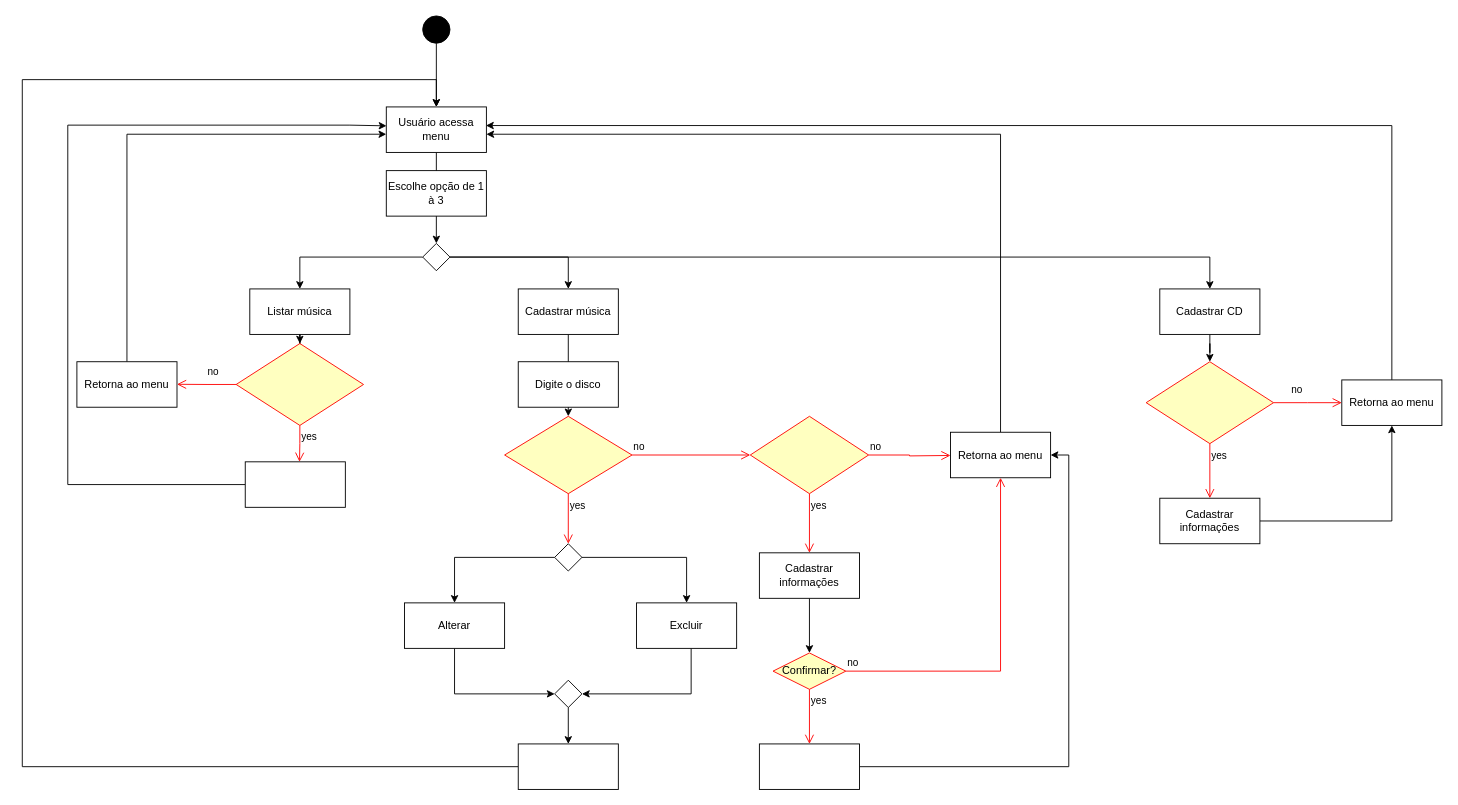
Some shapes in this 1458 by 805 pixel diagram are drawn without their labels. The shapes that lost their labels are listed below. From the top down, each one's centre as x and y in pixels, then its label:
point 299,384: Há alguma música cadastrada?
point 1209,402: Deseja cadastrar?
point 568,454: O disco foi encontrado?
point 809,454: Fazer novo cadastro?
point 294,484: Mostra músicas cadastradas
point 567,766: Retornar ao menu
point 808,766: Salvar informações
